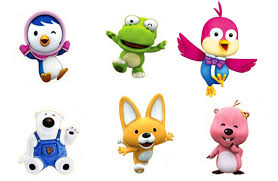Harry: (173, 1, 260, 100)
Loopy: (205, 99, 253, 177)
Petty: (17, 9, 72, 83)
